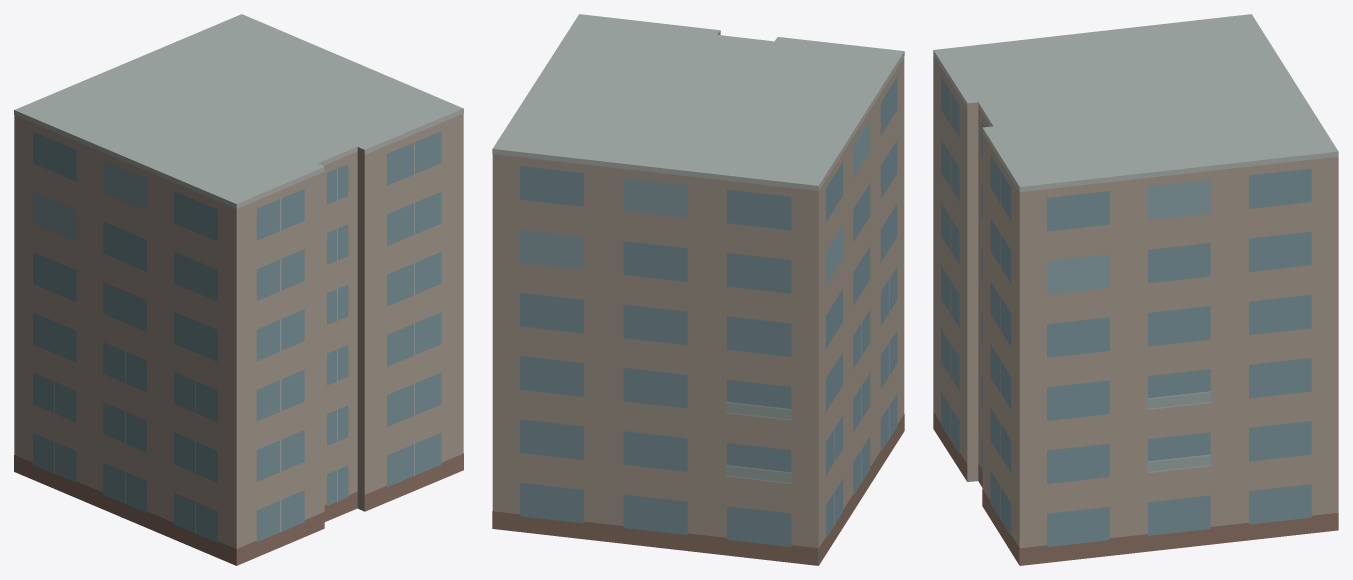
File: survey-upis-32671590.glb
3 renders of one model, left to right at view 1: azimuth 30°, elevation 25°; view 2: azimuth 150°, elevation 25°; view 3: azimuth 270°, elevation 25°, orthographic. The views are drawn at different scales.
Visible parts, largest first — view 1: survey-upis-32671590.tmp; view 2: survey-upis-32671590.tmp; view 3: survey-upis-32671590.tmp.
Boxes of the visible parts, box(x1,y1,x2,y2) form: survey-upis-32671590.tmp: box(14, 14, 463, 565); survey-upis-32671590.tmp: box(492, 14, 904, 565); survey-upis-32671590.tmp: box(933, 14, 1338, 565).
Bounding box in the file's own units: 17.85 × 18.2 × 17.66.
